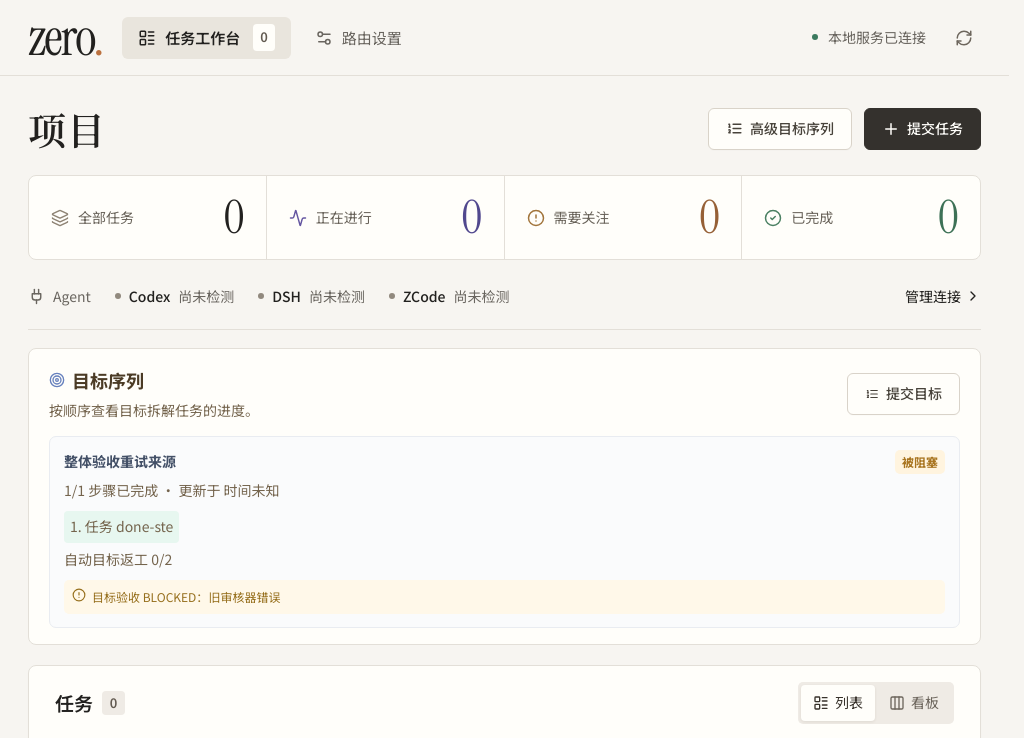
allows retrying the current blocked attempt while an old attempt POST is still held
Click the button "整体验收重试来源".
click(504, 532)  # box [49,436,960,628]
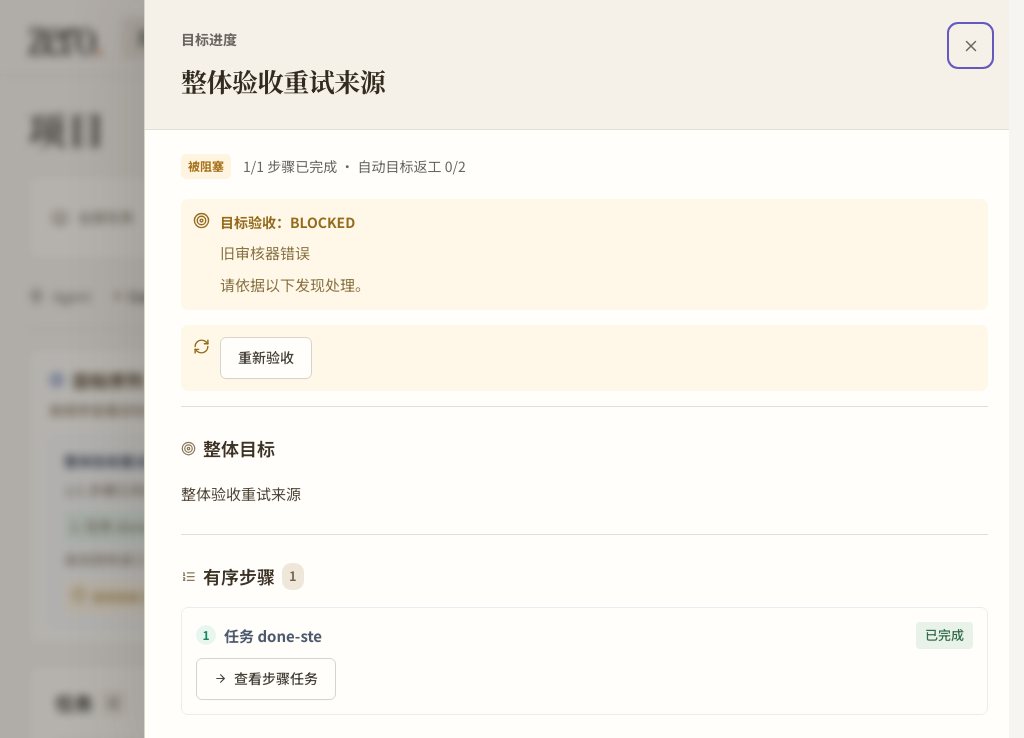
Click the button "重新验收".
click(266, 358)  # box [220,337,312,379]
Wait 9000 ms
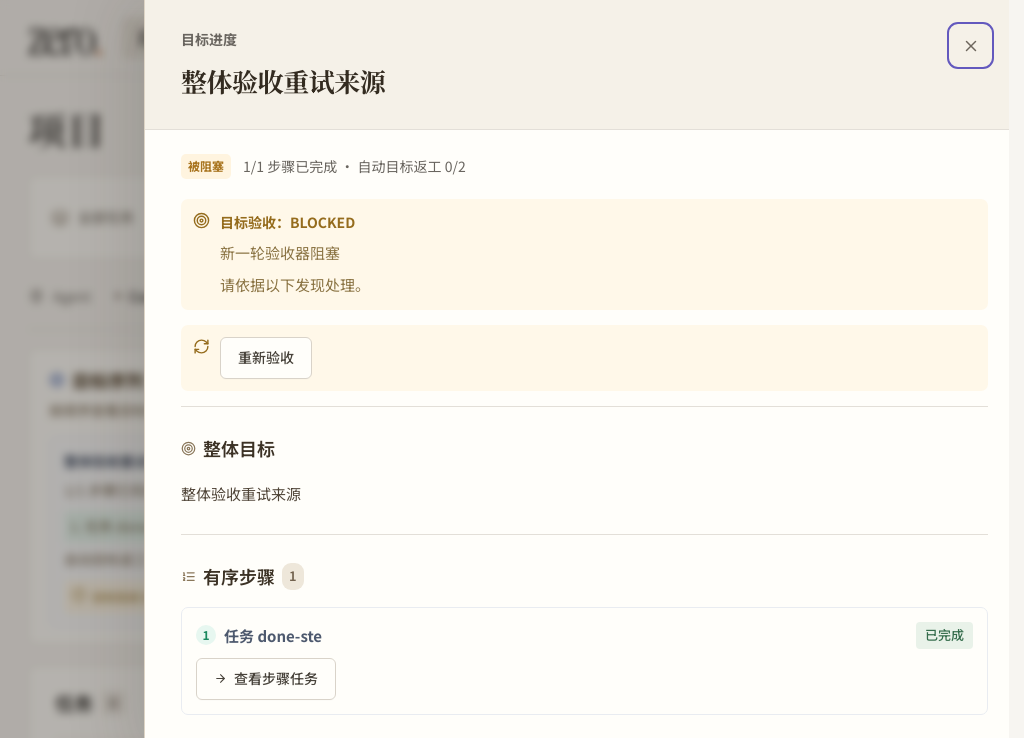
Expected: the text "新一轮验收器阻塞" is shown, [220,242,340,263]
